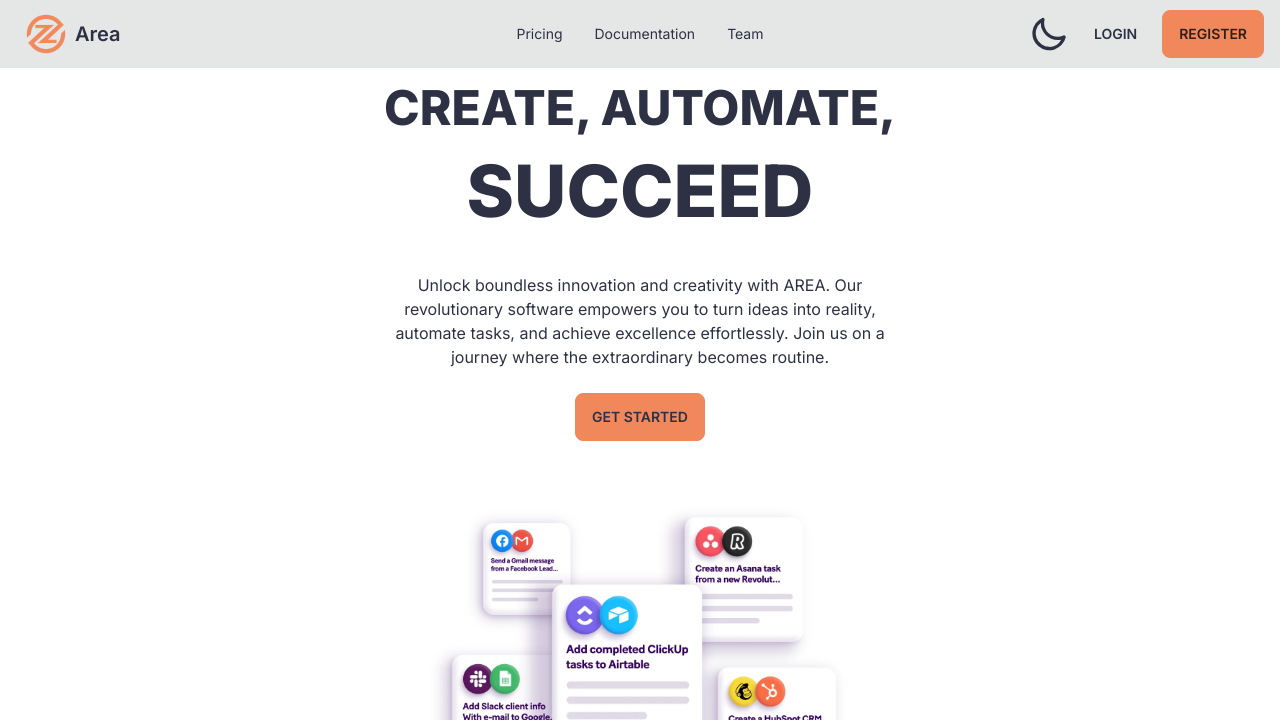
it: Registration flow › should display an error message when the passwords do not match
Click the button with test id "register-open-modal" at (1213, 34), box [1162,10,1264,58]
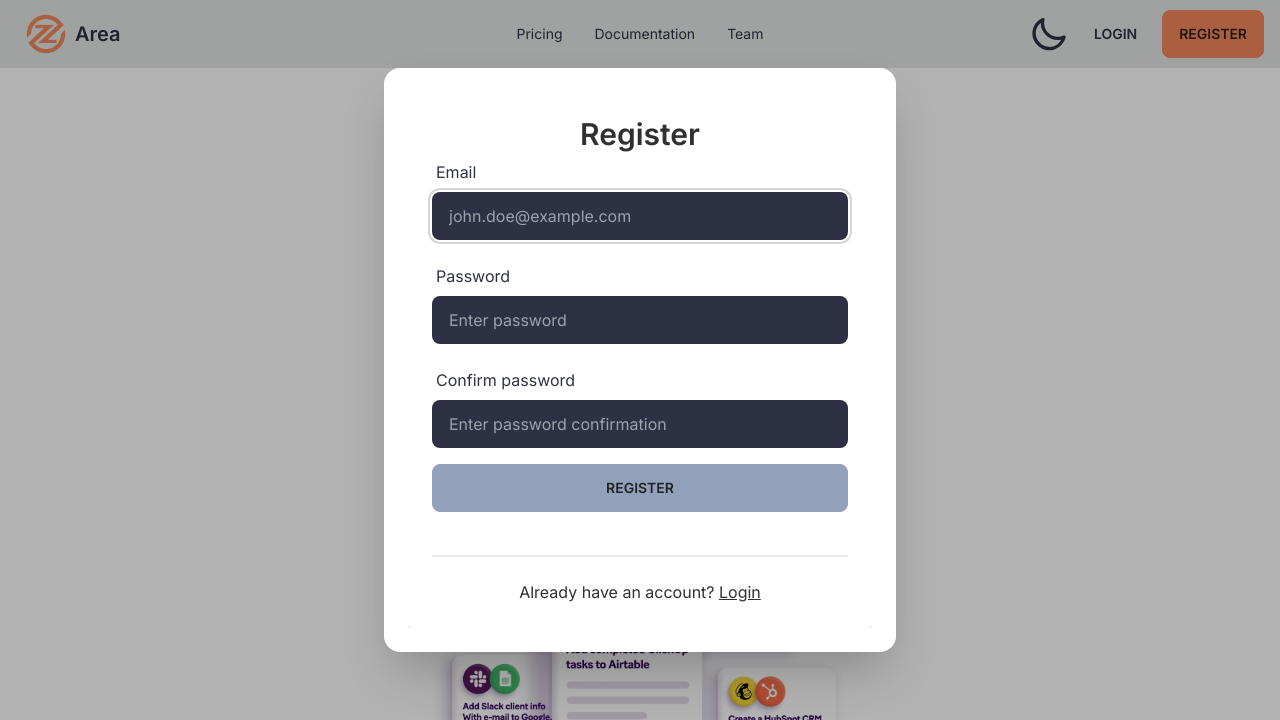
Type "test@example.com" into the field with test id "register-email-input" at (640, 216), box [432,192,848,240]
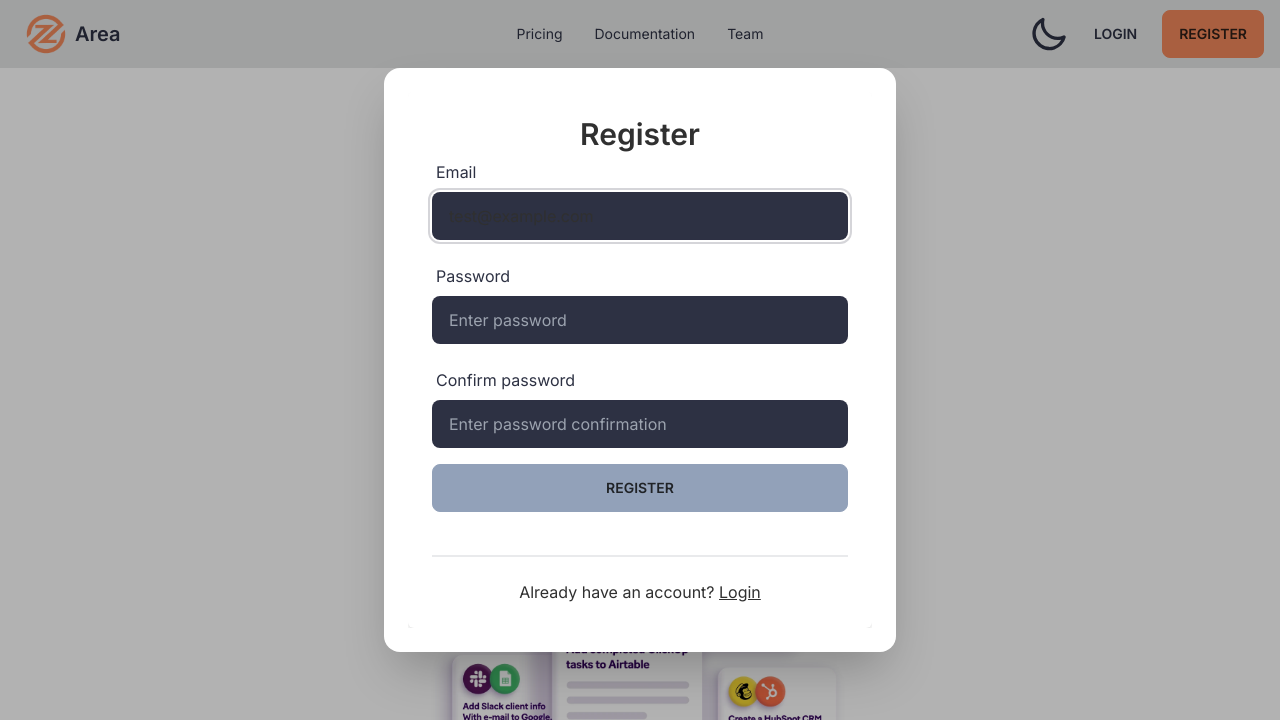
Type "password" into the password field with test id "register-password-input" at (640, 320), box [432,296,848,344]
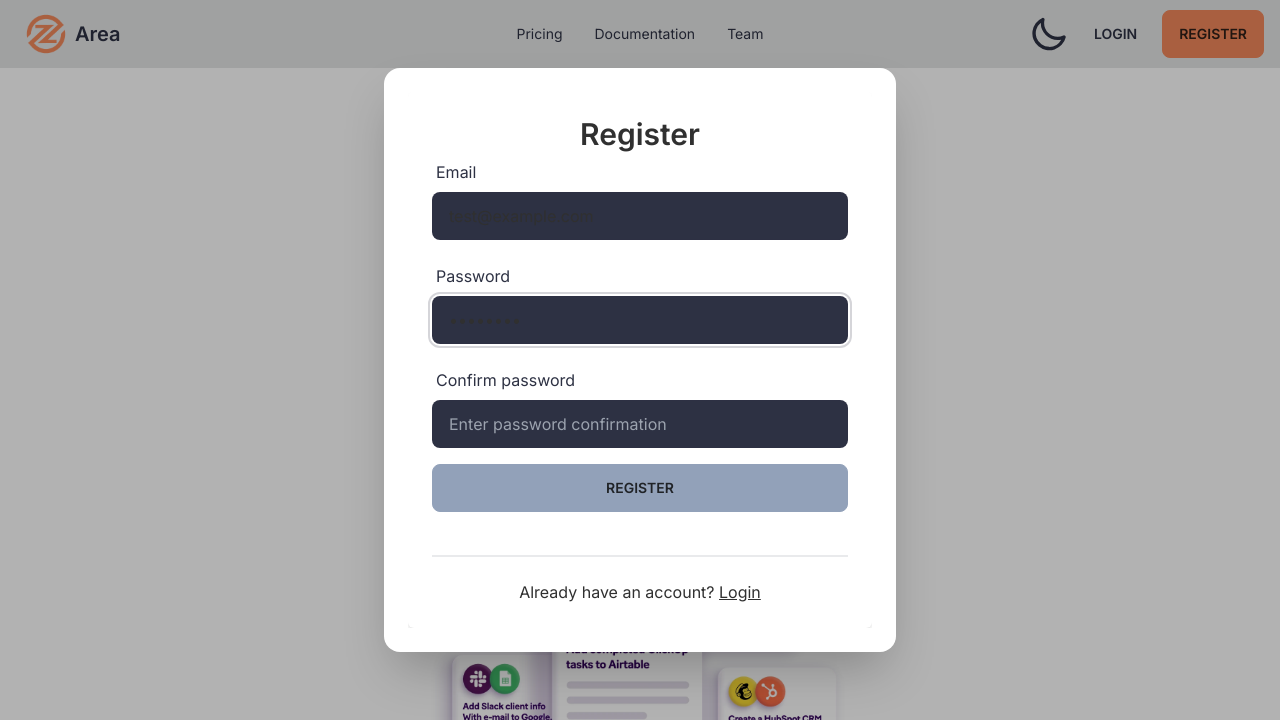
Type "different-password" into the password field with test id "register-confirm-password-input" at (640, 424), box [432,400,848,448]
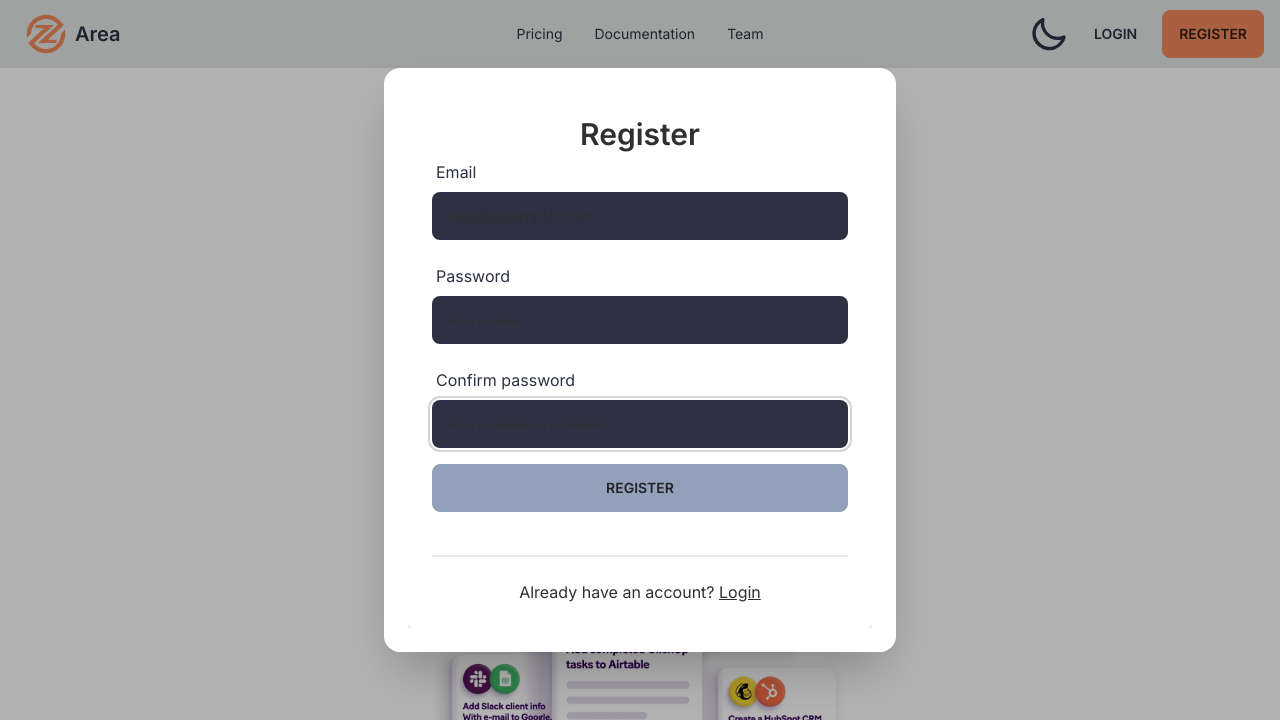
Click the button with test id "register-action-btn" at (640, 488), box [432,464,848,512]
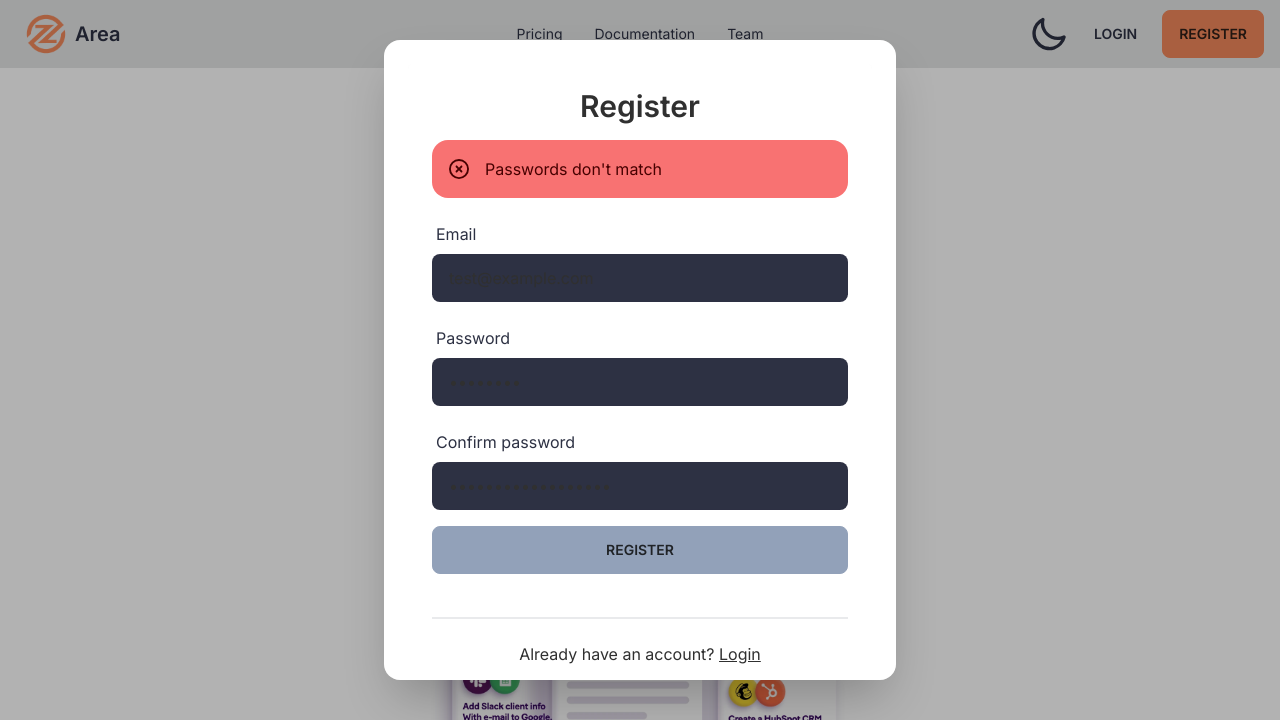
Check: the element with test id "auth-error-message" is shown, box [432,140,848,198]
